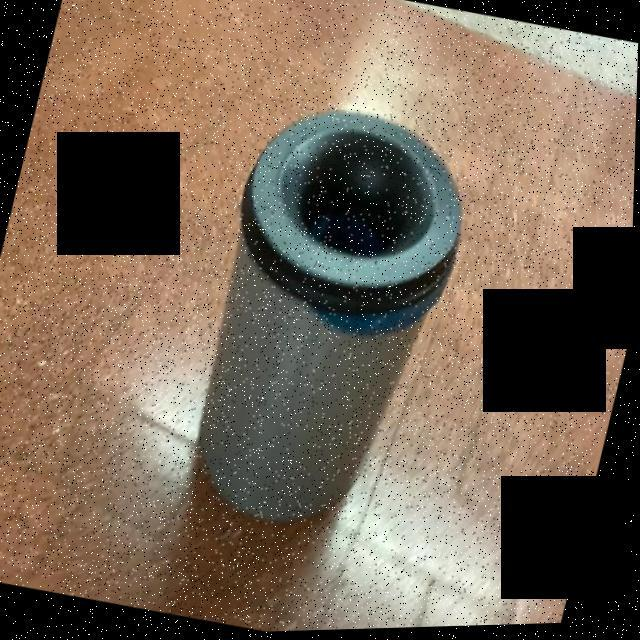bin: (117, 58, 519, 592)
